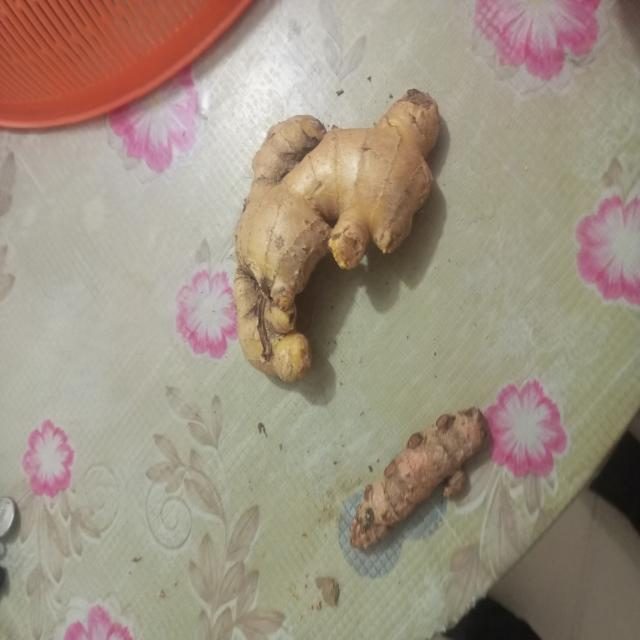ginger: (238, 104, 434, 368), (353, 408, 488, 540)
